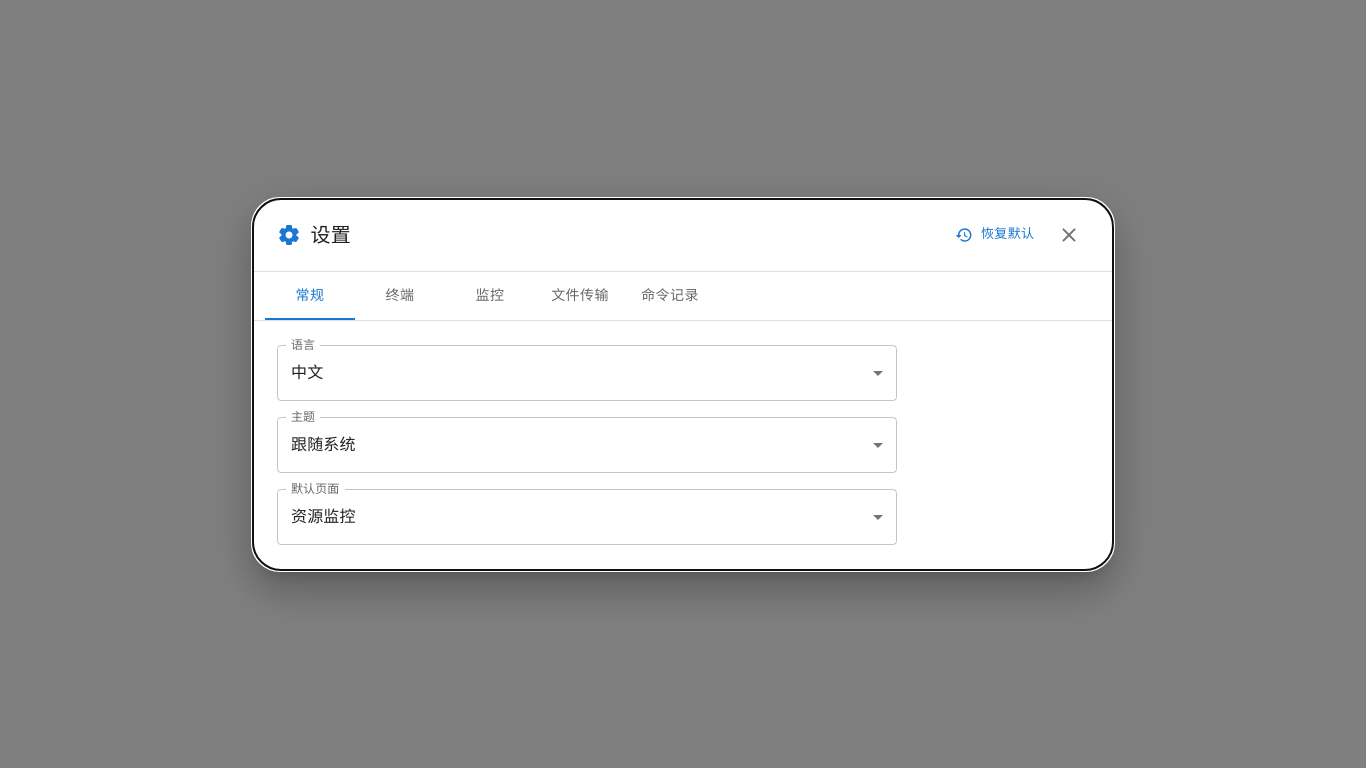
SettingsView › keeps the numeric save failure visible after a blur and close request
Click the tab "终端". click: [400, 296]
box: [355,272,445,320]
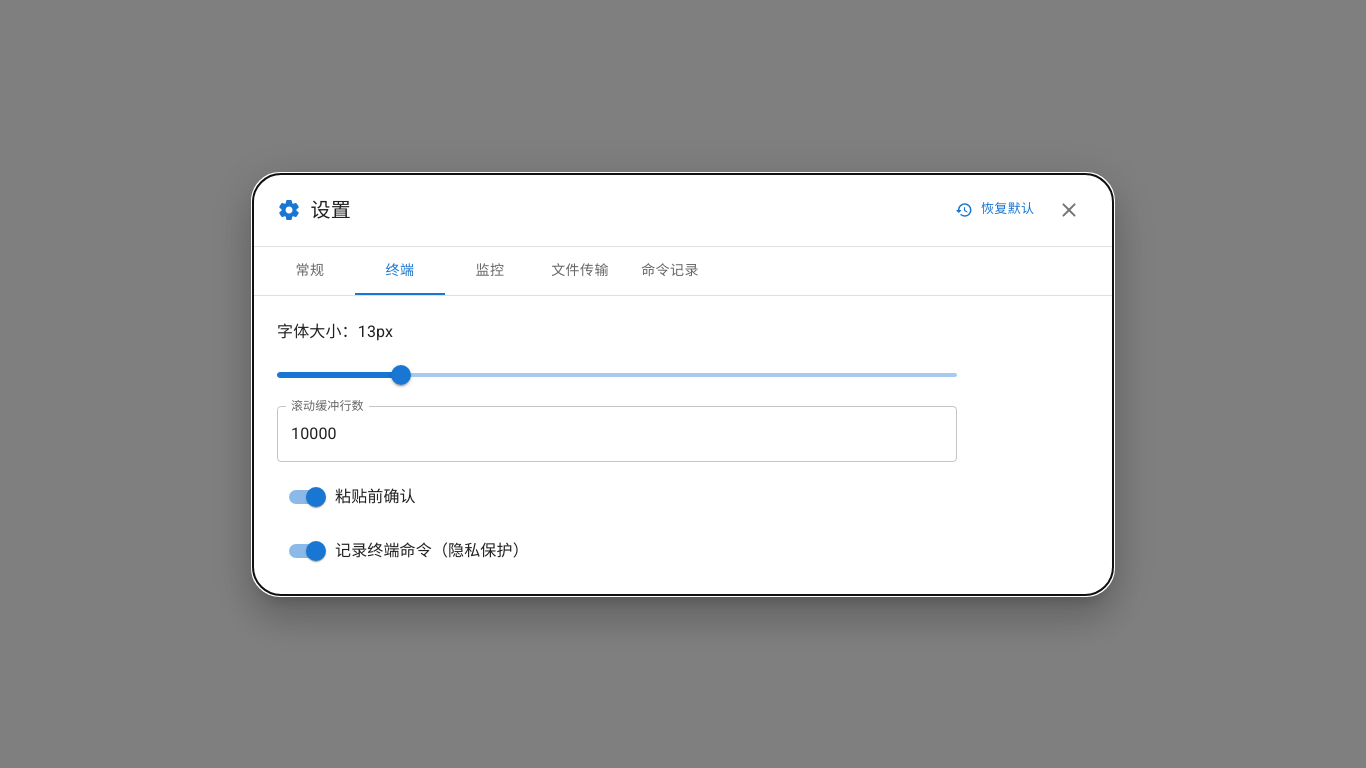
Replace the text in the number field labelled "滚动缓冲行数" with "20000". click: [617, 434]
box: [277,406,957,462]
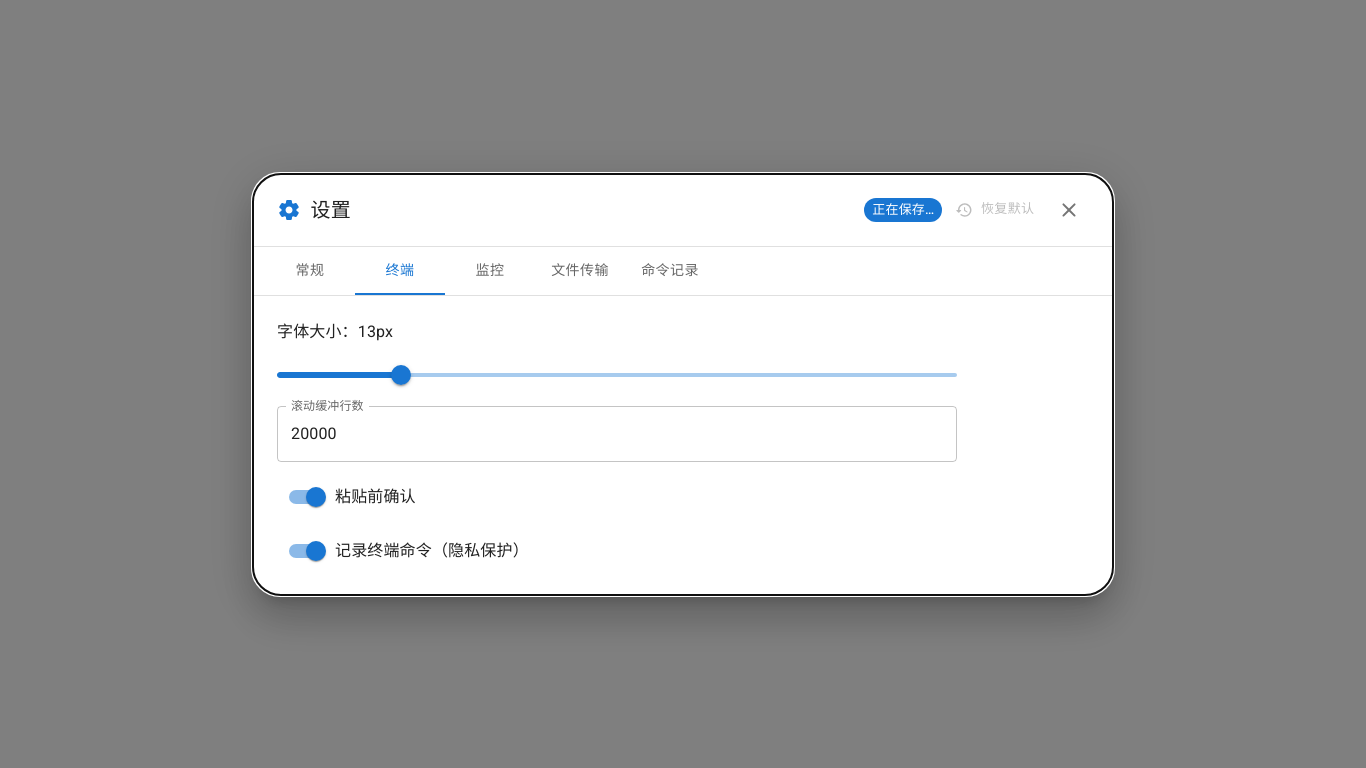
Click the button named "关闭设置". click: [1069, 210]
box: [1049,190,1089,230]
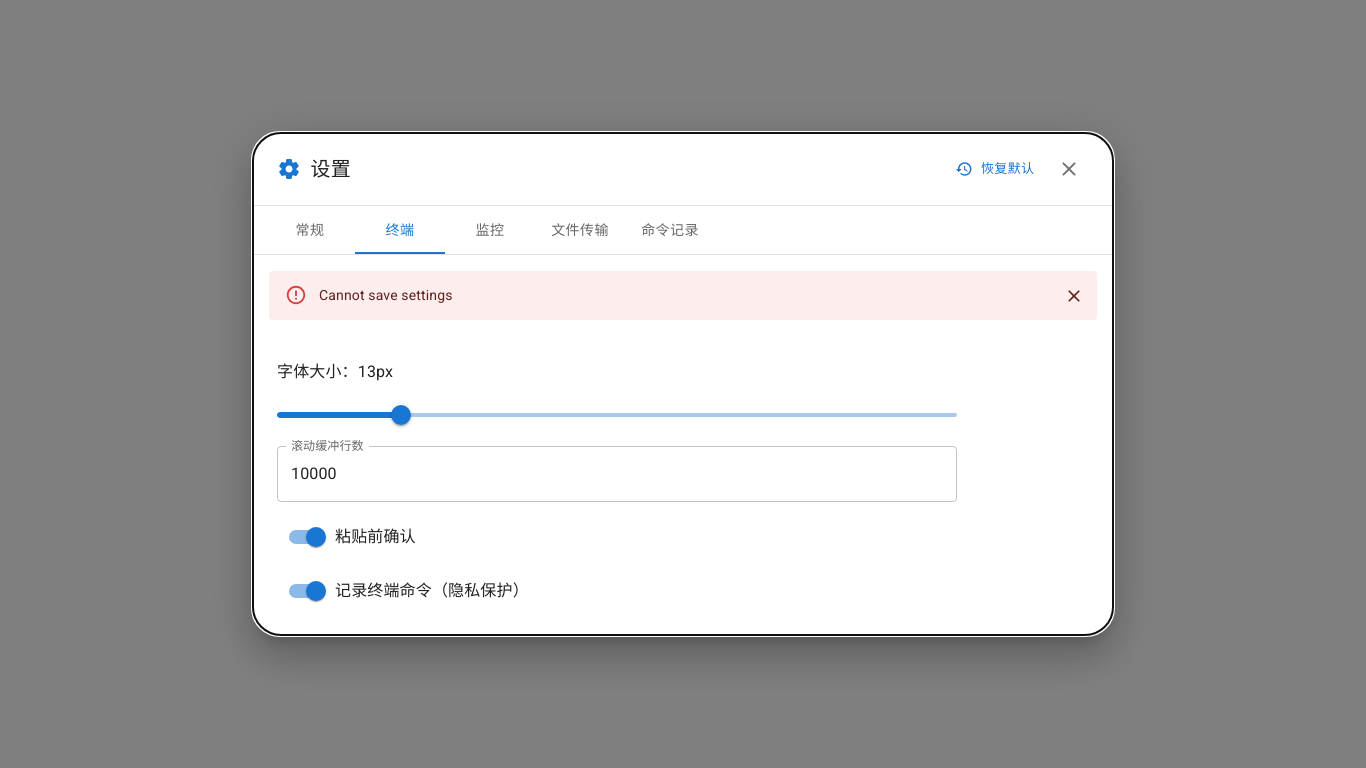
expect the message reads "Cannot save settings": met, box [319,288,453,304]
expect the number field labelled "滚动缓冲行数" holds "10000": met, box [277,446,957,502]
